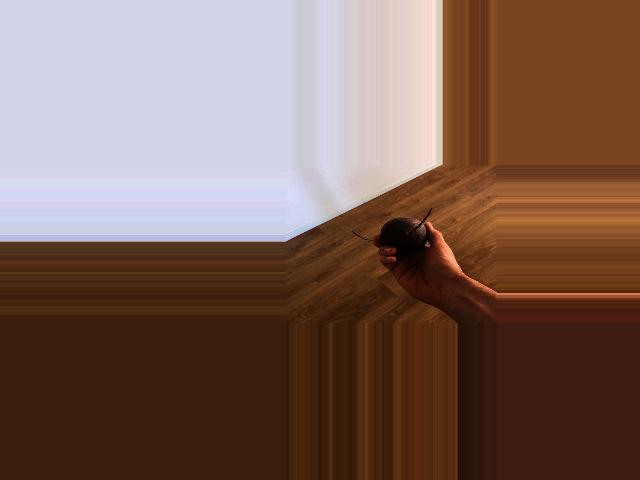beet: (351, 208, 431, 254)
